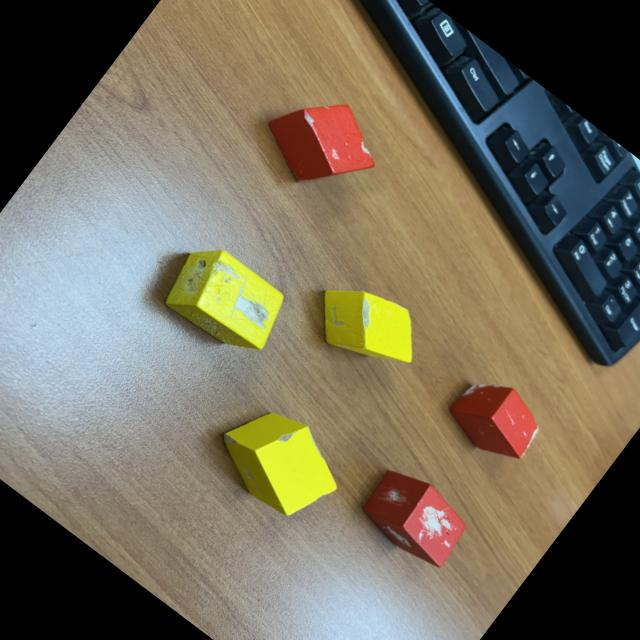broken: (203, 388, 357, 536), (155, 235, 299, 373), (252, 75, 394, 213), (298, 263, 437, 395), (356, 458, 478, 575), (439, 366, 552, 476)
